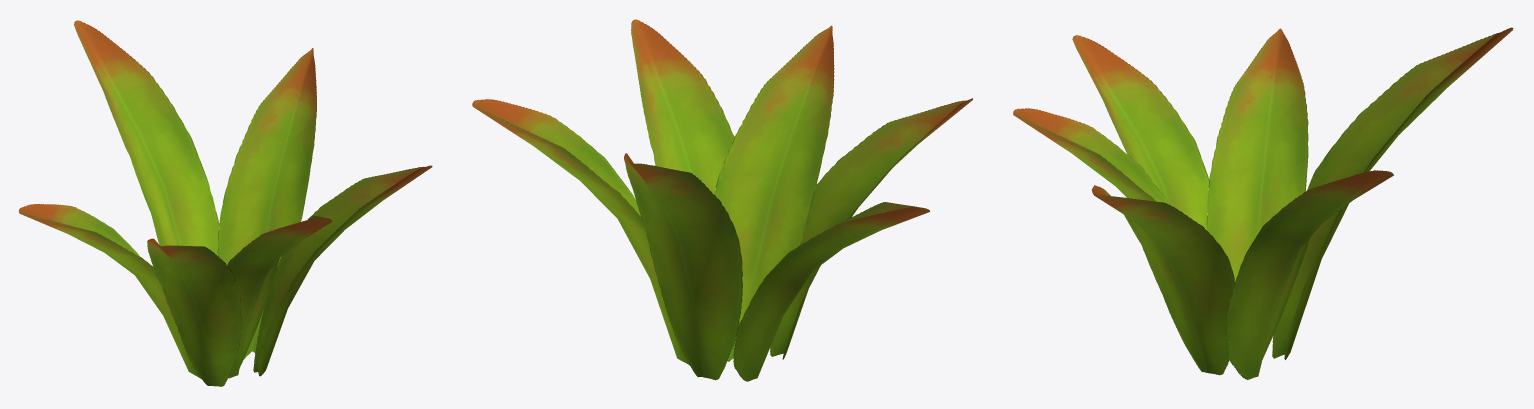
Rendered from Plant_1.gltf.
3 views of the same model, side by side, from view 1: azimuth 30°, elevation 25°; view 2: azimuth 150°, elevation 25°; view 3: azimuth 270°, elevation 25° (orthographic). The views are drawn at different scales.
Visible parts, largest first — view 1: Plant_1; view 2: Plant_1; view 3: Plant_1.
Part boxes in pixels (x1,y1,x2,y2): Plant_1: (19, 20, 432, 386); Plant_1: (472, 19, 972, 381); Plant_1: (1013, 27, 1513, 379).
Bounding box in the file's own units: 1.27 × 1.01 × 1.39.
1 material, 1 textured.
